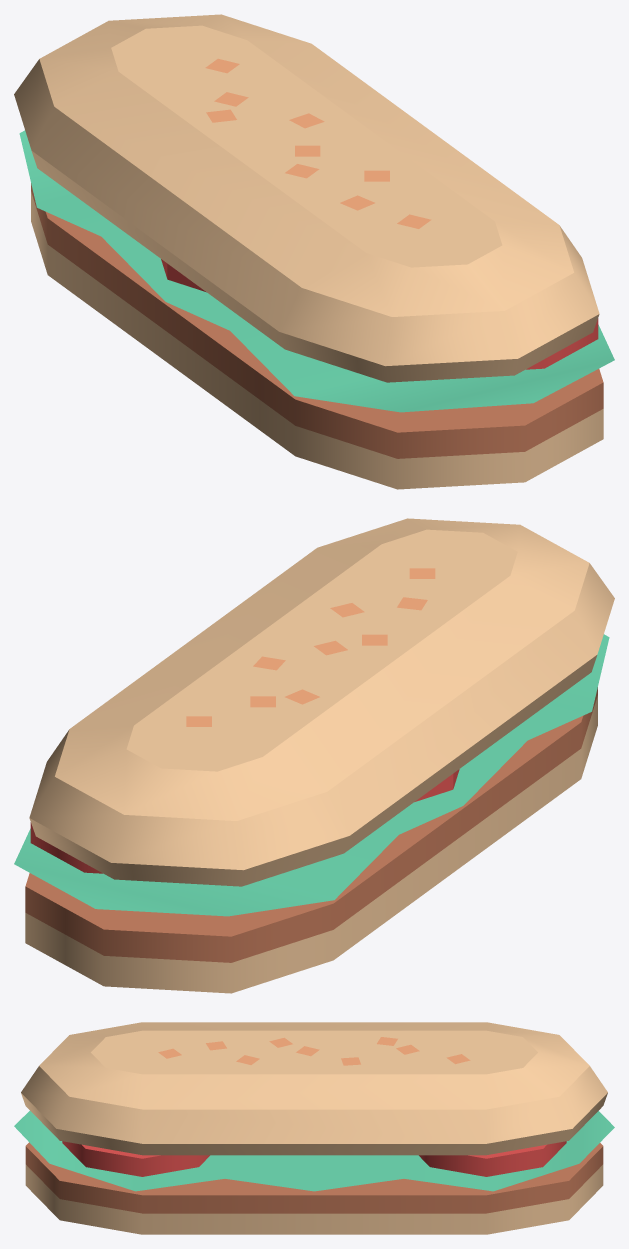
3 renders of one model, top to bottom at view 1: azimuth 30°, elevation 25°; view 2: azimuth 150°, elevation 25°; view 3: azimuth 270°, elevation 25°, orthographic. The views are drawn at different scales.
Parts seen in each view (by area): view 1: sub, meat, lettuce, tomaties; view 2: sub, meat, lettuce, tomaties; view 3: sub, meat, lettuce, tomaties (×2).
Part boxes in pixels (x1,y1,x2,y2): sub: (14,14,603,489); meat: (31,183,603,458); lettuce: (19,130,614,412); tomaties: (526,318,598,369); sub: (25,518,614,993); meat: (25,687,597,962); lettuce: (14,634,609,916); tomaties: (30,822,102,873); sub: (21,1022,607,1234); meat: (25,1142,603,1213); lettuce: (14,1111,614,1191); tomaties (×2): (62,1141,566,1176).
Size of the model in its own units: 11.13 by 6.32 by 26.6.
